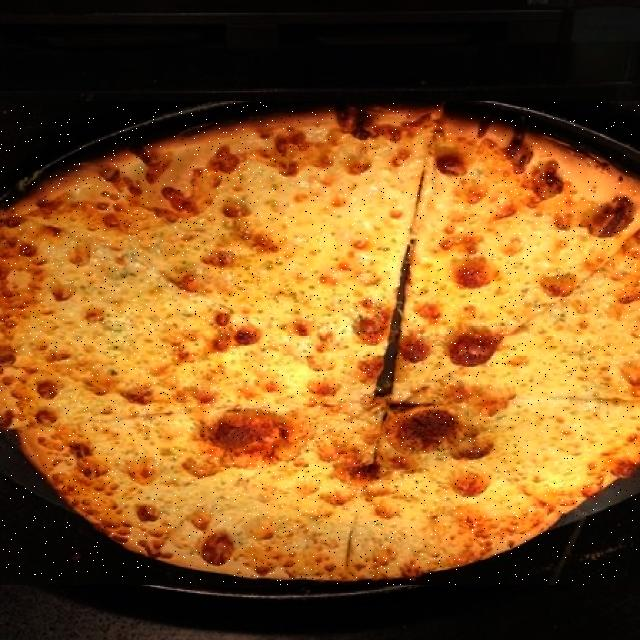Pizza: (0, 102, 640, 585)
